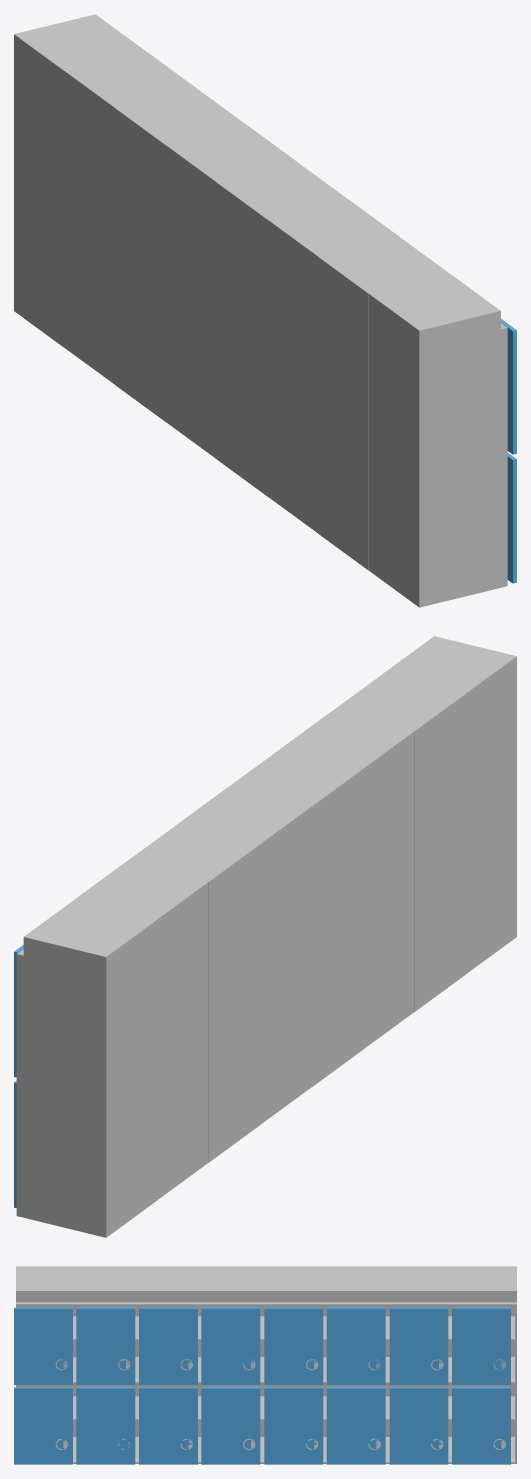
Rendered from locker.fbx.
3 views of the same model, one above another, from view 1: azimuth 30°, elevation 25°; view 2: azimuth 150°, elevation 25°; view 3: azimuth 270°, elevation 25° (orthographic). The views are drawn at different scales.
Visible parts, largest first — view 1: Box004_6, Box004_5, Box004_7, Box004_3, Box004_2, Box004, Box004_4, Box004_1, Box009_6, Box008_6; view 2: Box004, Box004_5, Box004_3, Box004_2, Box004_7, Box004_4, Box004_6, Box004_1; view 3: Box008_1, Box008_2, Box008_3, Box009_3, Box008_5, Box009_5, Box008_7, Box009_7, Box009_2, Box009_1, Box008, Box009 (+12 smaller).
Part boxes in pixels (x1=…): Box004_6: x1=369, y1=273, x2=507, y2=607; Box004_5: x1=216, y1=162, x2=348, y2=496; Box004_7: x1=317, y1=237, x2=449, y2=570; Box004_3: x1=115, y1=88, x2=246, y2=421; Box004_2: x1=166, y1=125, x2=297, y2=458; Box004: x1=14, y1=14, x2=145, y2=347; Box004_4: x1=267, y1=200, x2=399, y2=532; Box004_1: x1=65, y1=51, x2=196, y2=384; Box009_6: x1=501, y1=319, x2=516, y2=454; Box008_6: x1=507, y1=453, x2=516, y2=583; Box004: x1=16, y1=899, x2=157, y2=1237; Box004_5: x1=229, y1=749, x2=363, y2=1086; Box004_3: x1=127, y1=824, x2=260, y2=1162; Box004_2: x1=177, y1=786, x2=311, y2=1124; Box004_7: x1=332, y1=674, x2=465, y2=1012; Box004_4: x1=280, y1=711, x2=413, y2=1049; Box004_6: x1=383, y1=636, x2=516, y2=973; Box004_1: x1=75, y1=861, x2=208, y2=1199; Box008_1: x1=389, y1=1387, x2=448, y2=1464; Box008_2: x1=264, y1=1387, x2=323, y2=1464; Box008_3: x1=326, y1=1387, x2=385, y2=1464; Box009_3: x1=326, y1=1307, x2=385, y2=1384; Box008_5: x1=201, y1=1387, x2=260, y2=1464; Box009_5: x1=201, y1=1307, x2=260, y2=1384; Box008_7: x1=76, y1=1387, x2=135, y2=1464; Box009_7: x1=76, y1=1307, x2=135, y2=1384; Box009_2: x1=264, y1=1307, x2=323, y2=1384; Box009_1: x1=389, y1=1307, x2=448, y2=1384; Box008: x1=452, y1=1387, x2=510, y2=1464; Box009: x1=452, y1=1307, x2=510, y2=1384.
Bounding box in the file's own units: 54.44 × 150 × 400.
